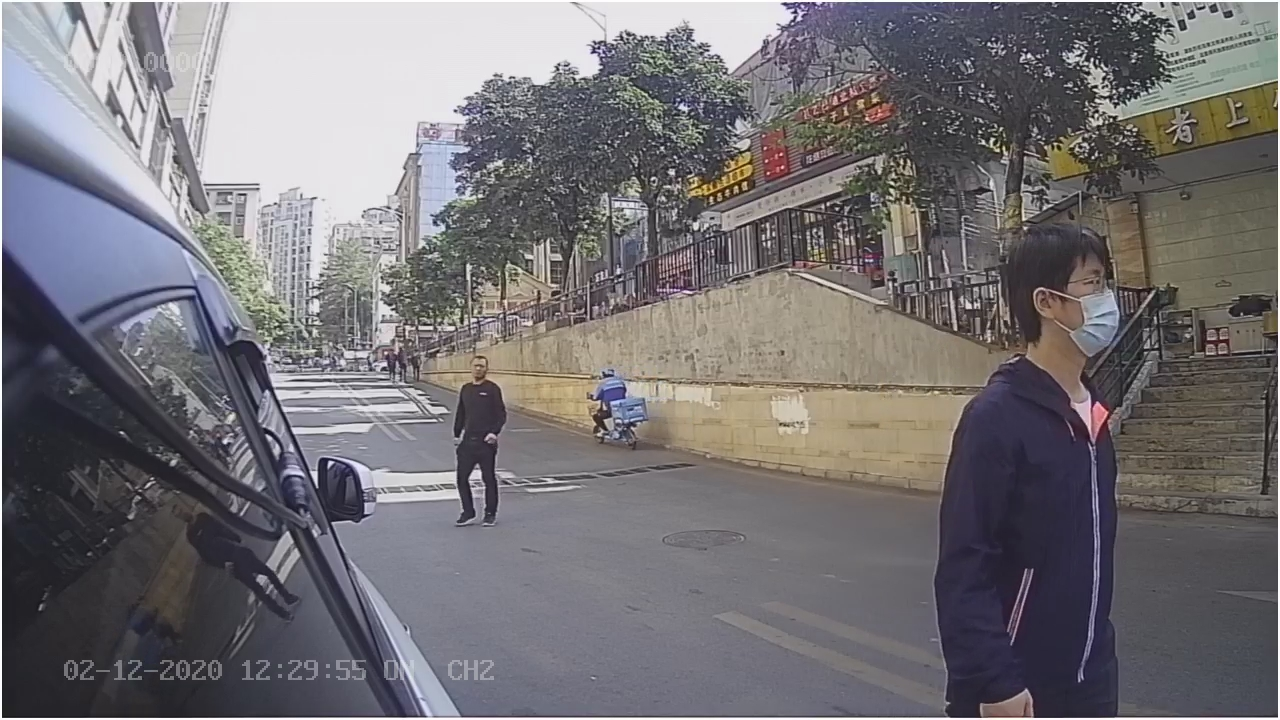person: (932, 221, 1146, 568), (430, 352, 524, 540)
